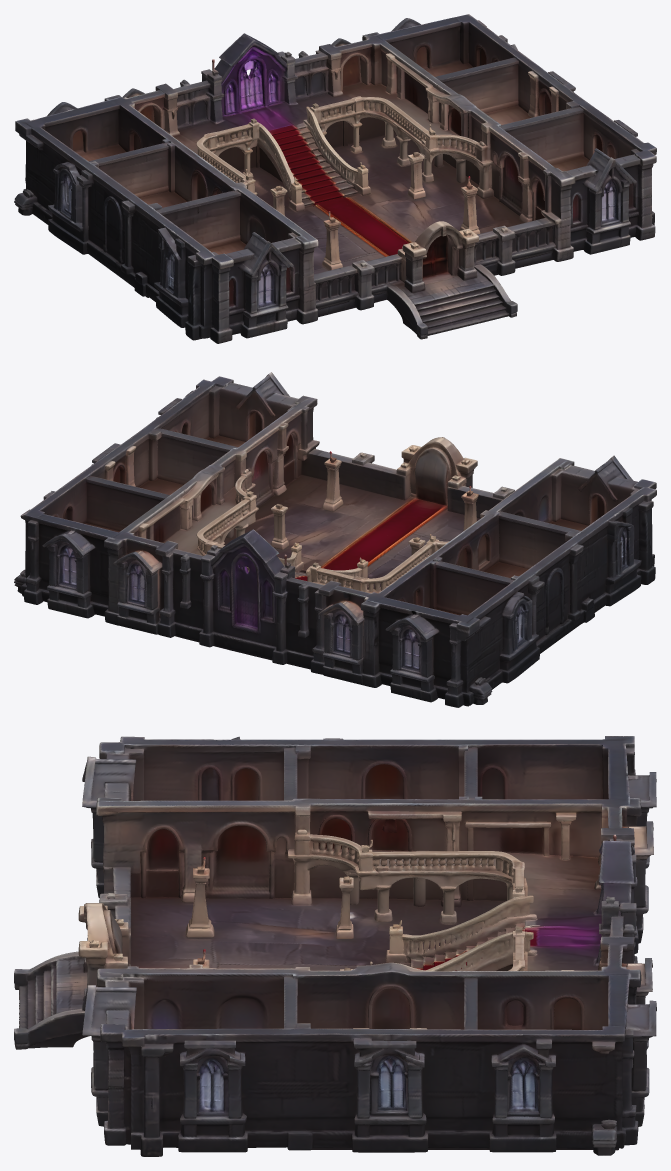
File: main-hall.glb
3 views of the same model, one above another, from view 1: azimuth 30°, elevation 25°; view 2: azimuth 150°, elevation 25°; view 3: azimuth 270°, elevation 25° (orthographic). The views are drawn at different scales.
Visible parts, largest first — view 1: model; view 2: model; view 3: model.
Boxes of the visible parts, x1,y1,x2,y2 form: model: (14,14,656,343); model: (14,372,656,707); model: (14,736,656,1156).
Size of the model in its own units: 1.9 by 0.5013 by 1.65.
Materials: 1 (1 with a texture image).
